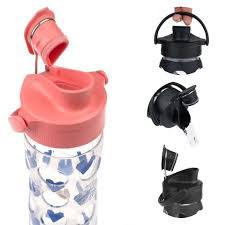Plastic: (8, 6, 110, 224)
